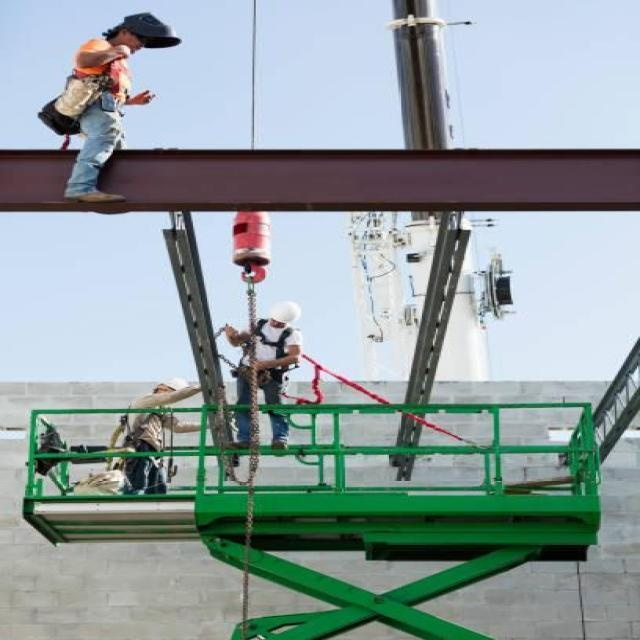Arnes_seguridad: (71, 38, 132, 115), (237, 320, 293, 392), (123, 400, 170, 448)
